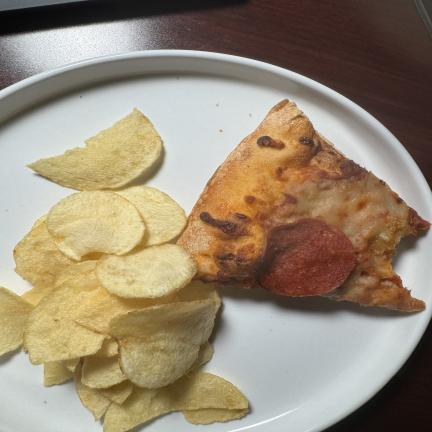chips: (0, 111, 248, 431), (28, 109, 162, 190), (109, 300, 218, 388), (104, 372, 248, 431), (25, 271, 108, 364), (46, 191, 144, 260), (95, 244, 196, 297), (113, 186, 186, 246), (75, 294, 177, 333), (14, 222, 74, 284), (22, 261, 96, 305), (0, 287, 33, 355), (75, 364, 111, 420), (82, 356, 126, 388), (54, 260, 96, 287), (183, 408, 249, 425), (100, 380, 134, 405), (22, 282, 53, 306), (190, 341, 214, 371), (44, 362, 73, 386), (94, 337, 118, 357), (63, 358, 80, 372), (32, 215, 47, 229)
pizza: (178, 100, 430, 311)
plate: (0, 51, 431, 293)
